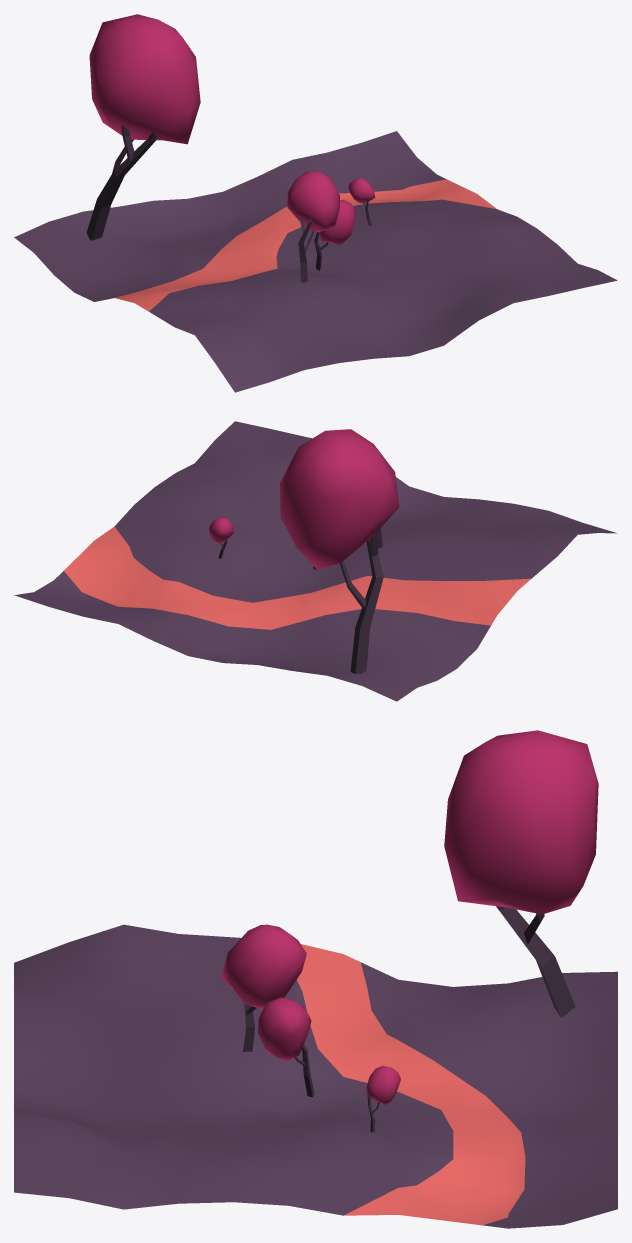
The model's file is FlatScene.obj.
3 views of the same model, one above another, from view 1: azimuth 30°, elevation 25°; view 2: azimuth 150°, elevation 25°; view 3: azimuth 270°, elevation 25° (orthographic). The views are drawn at different scales.
Visible parts, largest first — view 1: FlatScene; view 2: FlatScene; view 3: FlatScene.
Boxes of the visible parts, <box> form: FlatScene: <box>14,14,617,392</box>; FlatScene: <box>14,421,616,701</box>; FlatScene: <box>14,730,617,1228</box>.
Bounding box in the file's own units: 2 × 1.16 × 2.
1 material, 1 textured.
